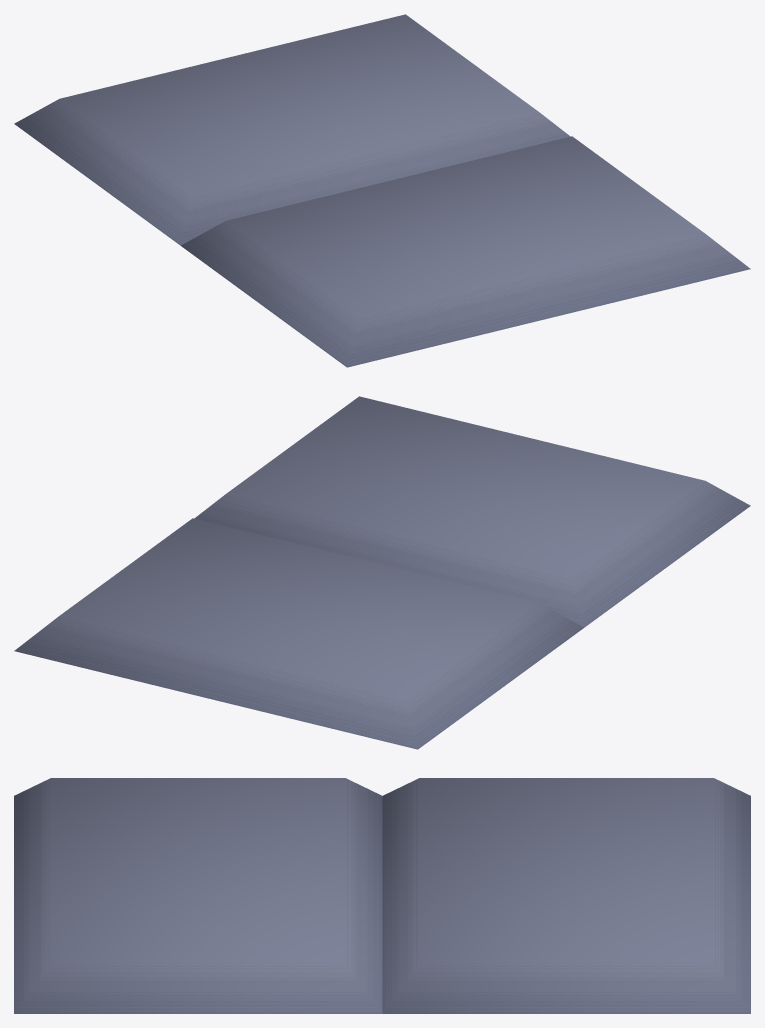
Rendered from path-stones-short.glb.
3 views of the same model, one above another, from view 1: azimuth 30°, elevation 25°; view 2: azimuth 150°, elevation 25°; view 3: azimuth 270°, elevation 25° (orthographic). The views are drawn at different scales.
Parts seen in each view (by area): view 1: path-stones-short; view 2: path-stones-short; view 3: path-stones-short.
Boxes of the visible parts, <box> form: path-stones-short: <box>14,14,750,367</box>; path-stones-short: <box>14,396,750,749</box>; path-stones-short: <box>14,778,750,1013</box>.
Size of the model in its own units: 0.14 by 0.01 by 0.2.
1 material, 1 textured.
